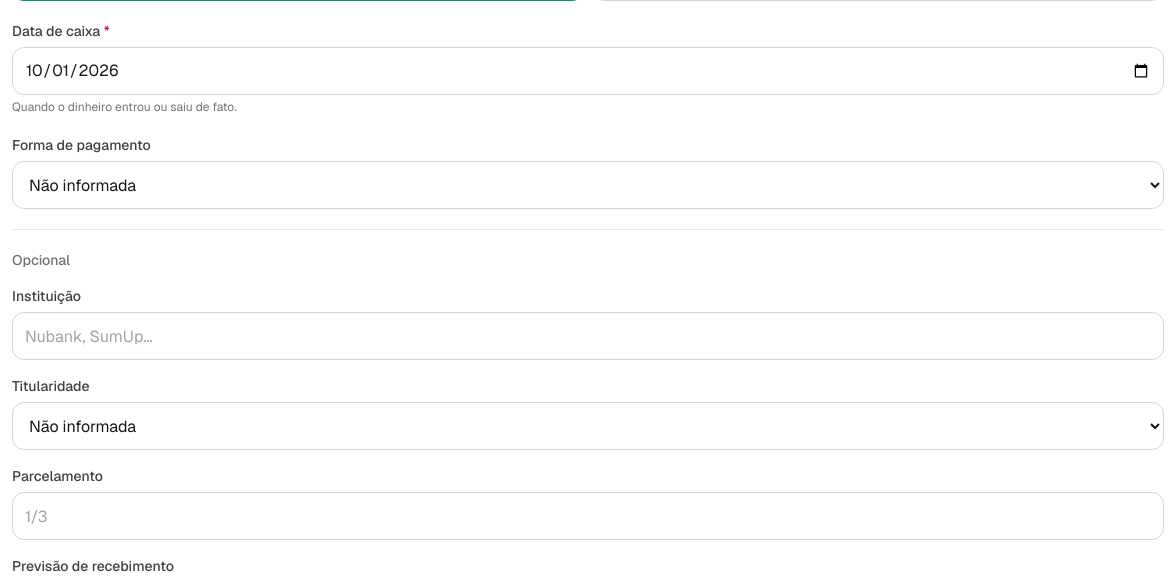
Test case: FormularioLancamento: titularidade do Nubank › novo: escolher PicPay esconde o campo
(page scrolled)
Type "PicPay" into the field labelled "Instituição". click: (588, 336)
box: [12,312,1164,360]
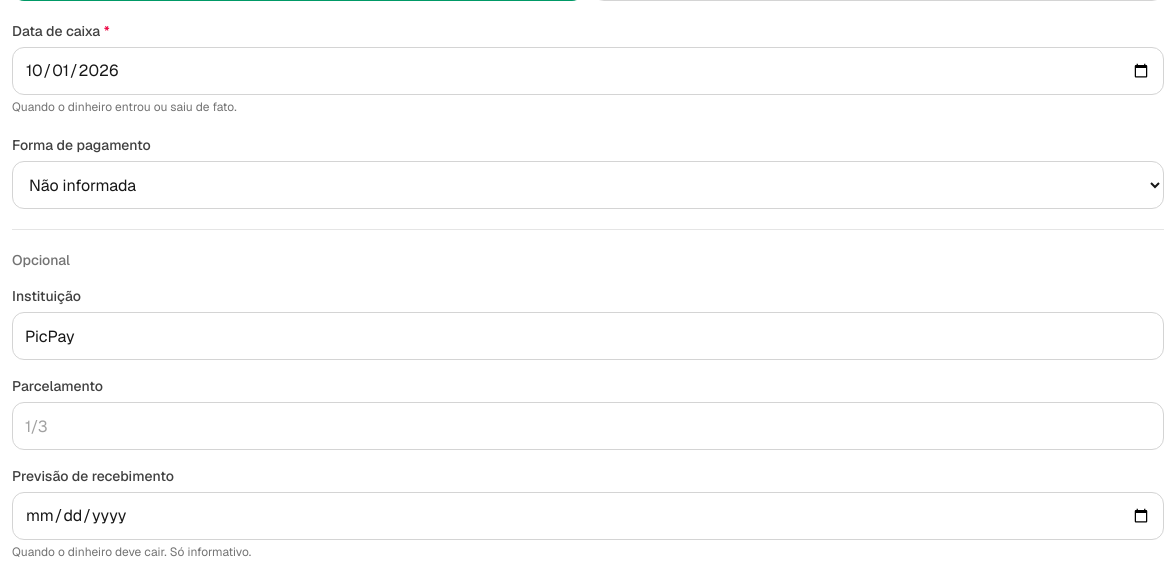
Now the label labelled "Titularidade" is gone
